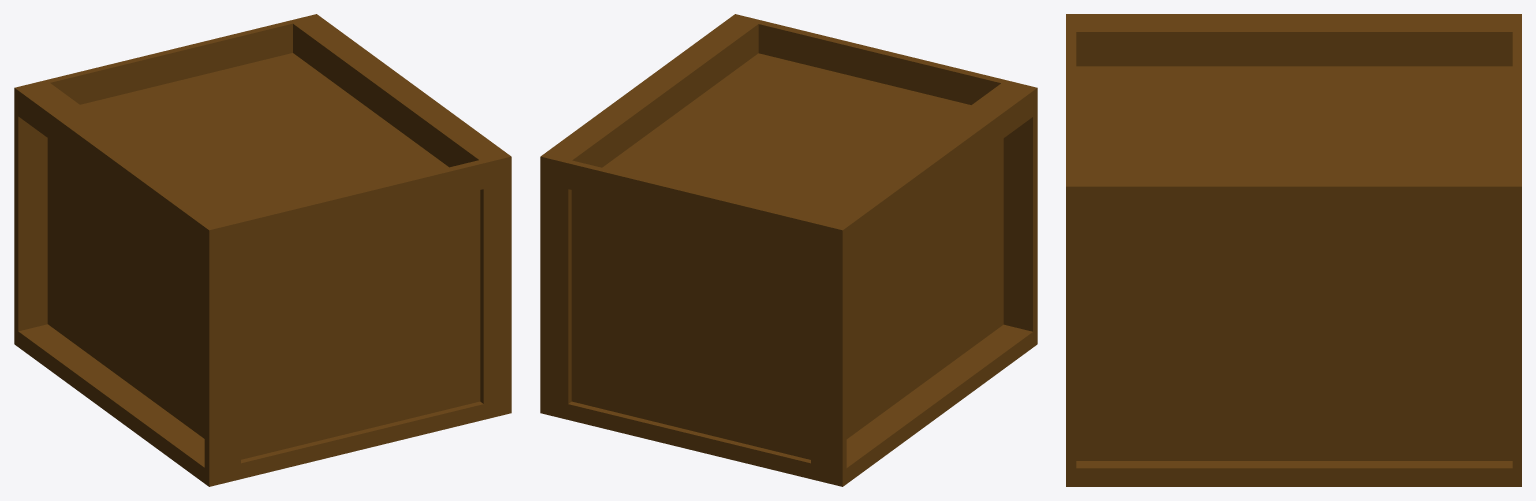
The model's file is Caja1.FBX.
The picture shows the model from 3 angles, left to right: view 1: azimuth 30°, elevation 25°; view 2: azimuth 150°, elevation 25°; view 3: azimuth 270°, elevation 25°; orthographic projection. The views are drawn at different scales.
Parts seen in each view (by area): view 1: G_Caja1; view 2: G_Caja1; view 3: G_Caja1.
Boxes of the visible parts, <box> form: G_Caja1: <box>14,14,511,486</box>; G_Caja1: <box>540,14,1037,486</box>; G_Caja1: <box>1066,14,1521,486</box>.
Bounding box in the file's own units: 5.84 × 4.74 × 6.52.
